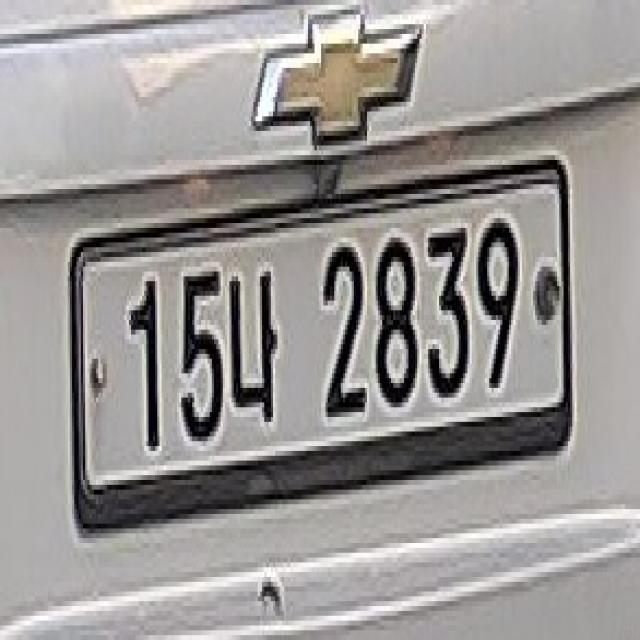1: (122, 252, 172, 470)
2: (317, 223, 371, 436)
3: (422, 213, 472, 412)
5: (175, 248, 225, 466)
8: (372, 218, 422, 417)
9: (472, 199, 524, 407)
license_plate: (59, 140, 579, 548)
na: (223, 242, 288, 446)
